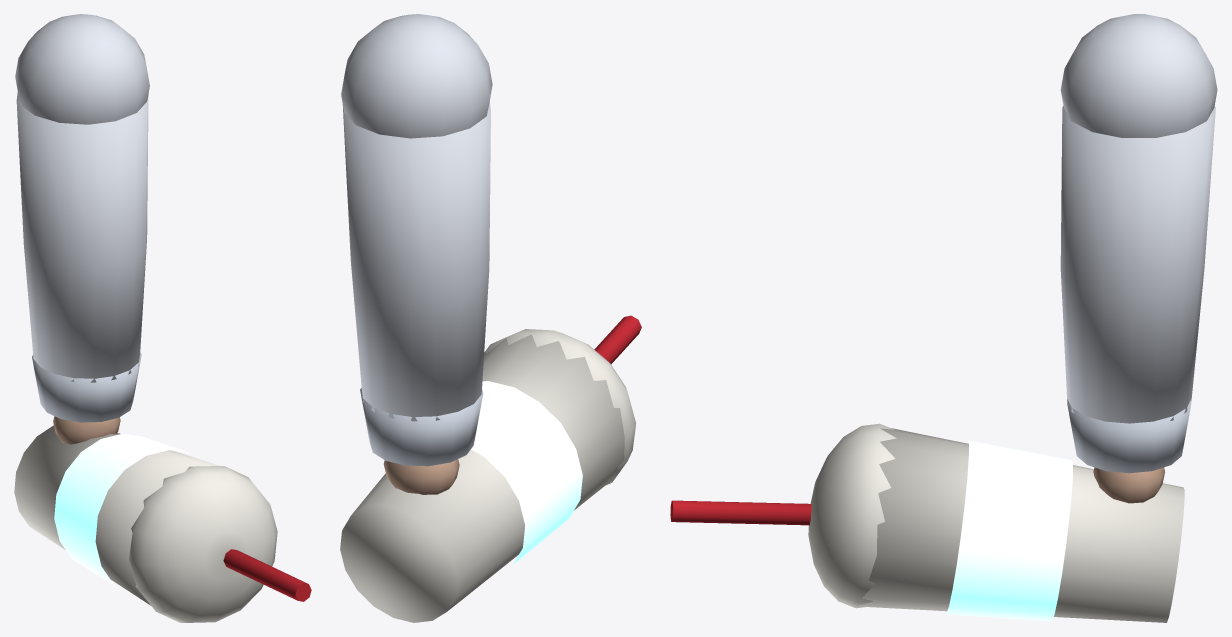
The model's file is coder_forearm_l_coffee.glb.
The picture shows the model from 3 angles, left to right: view 1: azimuth 30°, elevation 25°; view 2: azimuth 150°, elevation 25°; view 3: azimuth 270°, elevation 25°; orthographic projection. The views are drawn at different scales.
Visible parts, largest first — view 1: CoderPart; view 2: CoderPart; view 3: CoderPart.
Boxes of the visible parts, x1=… form: CoderPart: x1=14, y1=14, x2=311, y2=622; CoderPart: x1=340, y1=14, x2=641, y2=622; CoderPart: x1=670, y1=14, x2=1217, y2=622.
Size of the model in its own units: 0.114 by 0.4022 by 0.3349.
